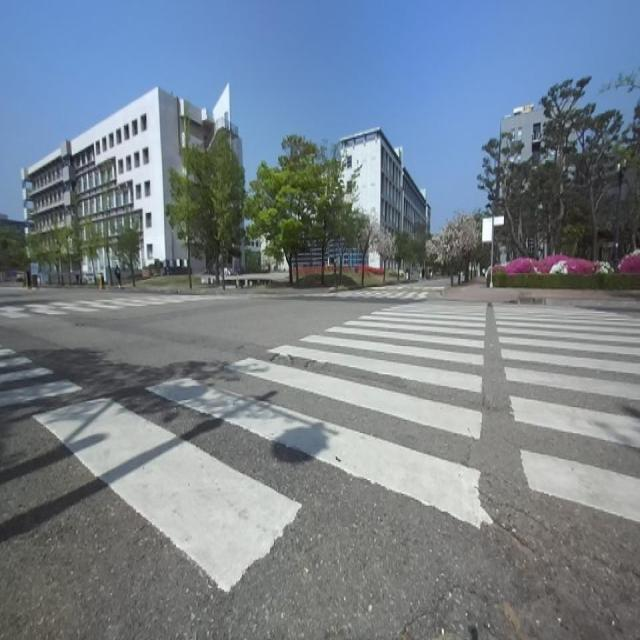sidewalk: (442, 283, 640, 302)
